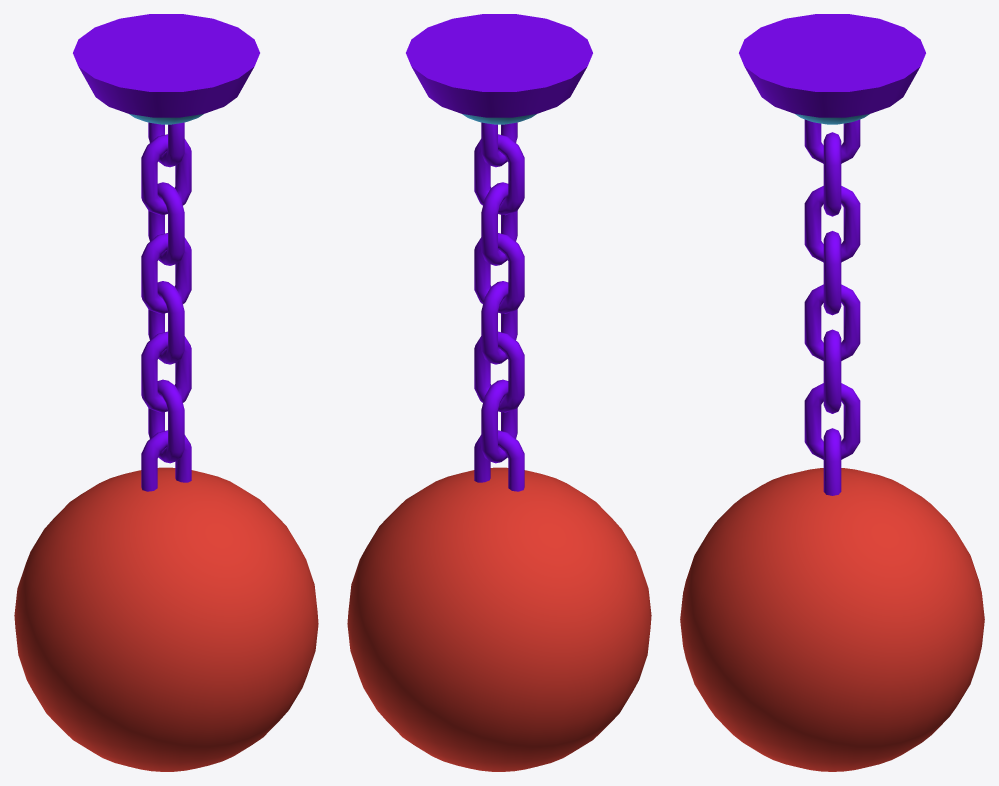
File: Obstacle_Hanging_Hammer_Ball_01.fbx
3 renders of one model, left to right at view 1: azimuth 30°, elevation 25°; view 2: azimuth 150°, elevation 25°; view 3: azimuth 270°, elevation 25°, orthographic.
Parts seen in each view (by area): view 1: Hanging_Hammer_Ball_01, Obstacle_Hanging_Hammer_Ball_01; view 2: Hanging_Hammer_Ball_01, Obstacle_Hanging_Hammer_Ball_01; view 3: Hanging_Hammer_Ball_01, Obstacle_Hanging_Hammer_Ball_01.
Boxes of the visible parts, x1=… form: Hanging_Hammer_Ball_01: x1=14, y1=122, x2=318, y2=771; Obstacle_Hanging_Hammer_Ball_01: x1=73, y1=14, x2=259, y2=124; Hanging_Hammer_Ball_01: x1=347, y1=122, x2=651, y2=771; Obstacle_Hanging_Hammer_Ball_01: x1=406, y1=14, x2=592, y2=124; Hanging_Hammer_Ball_01: x1=680, y1=119, x2=984, y2=771; Obstacle_Hanging_Hammer_Ball_01: x1=739, y1=14, x2=925, y2=124.
Bounding box in the file's own units: 147 × 376 × 147.
